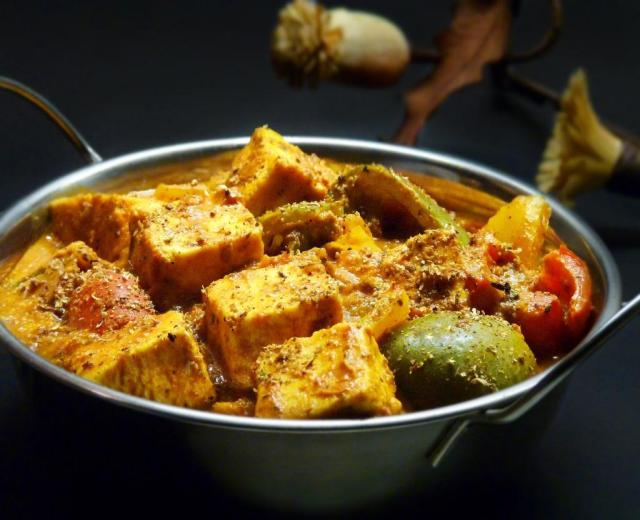kadai paneer: (0, 134, 626, 512), (2, 71, 259, 411), (10, 136, 562, 224), (391, 0, 561, 142), (0, 74, 118, 218), (268, 0, 411, 91), (378, 227, 482, 316), (472, 194, 552, 274), (101, 166, 214, 207), (497, 0, 563, 64), (0, 201, 56, 267)
